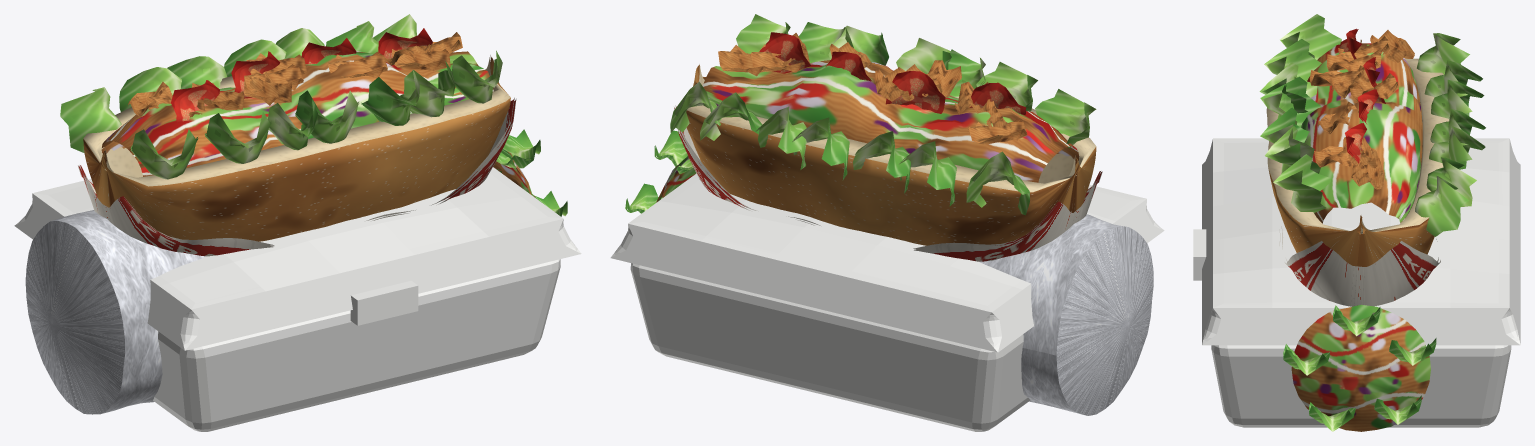
File: kebap_finished.fbx
3 renders of one model, left to right at view 1: azimuth 30°, elevation 25°; view 2: azimuth 150°, elevation 25°; view 3: azimuth 270°, elevation 25°, orthographic. The views are drawn at different scales.
Parts seen in each view (by area): view 1: BoxClosed, KebapFilling, KebapBread, DuerumFoil, KebapPaper, DuerumEnd; view 2: BoxClosed, KebapFilling, KebapBread, DuerumFoil, KebapPaper, DuerumEnd; view 3: BoxClosed, KebapFilling, DuerumEnd, KebapBread, KebapPaper.
Part boxes in pixels (x1,y1,x2,y2): BoxClosed: (14,167,581,431); KebapFilling: (60,14,502,179); KebapBread: (83,55,510,241); DuerumFoil: (25,210,206,414); KebapPaper: (78,97,516,256); DuerumEnd: (493,129,567,216); BoxClosed: (610,173,1164,431); KebapFilling: (670,14,1096,215); KebapBread: (686,64,1096,245); DuerumFoil: (979,214,1153,415); KebapPaper: (674,105,1102,261); DuerumEnd: (625,130,696,213); BoxClosed: (1193,138,1520,427); KebapFilling: (1259,14,1485,236); DuerumEnd: (1283,304,1436,431); KebapBread: (1266,39,1449,266); KebapPaper: (1279,226,1440,306).
Bounding box in the file's own units: 240 × 149 × 150.
5 materials, 4 textured.
